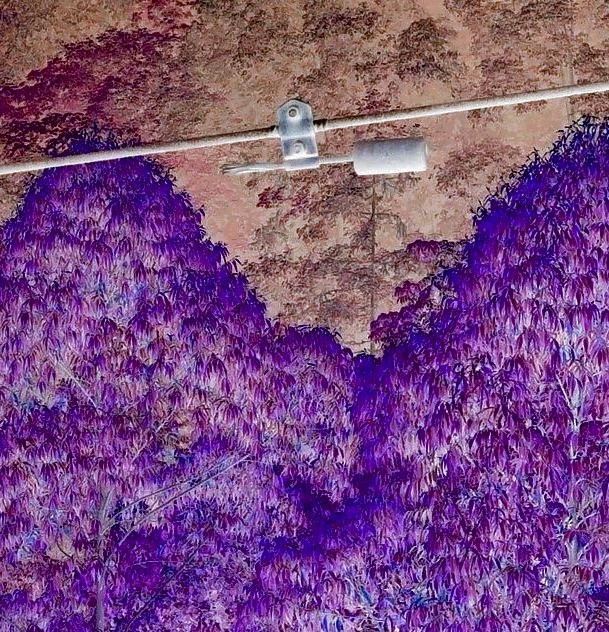Damage of shockproof hammer: (204, 88, 443, 198)
